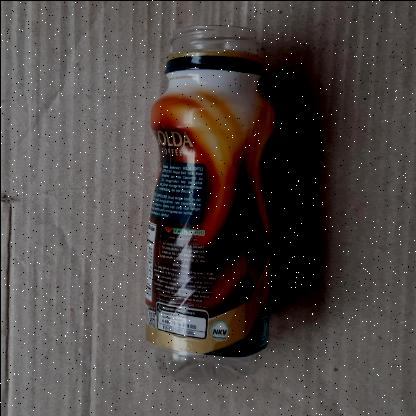Plastic Bottle: (142, 21, 276, 387)
